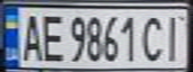1: (118, 12, 142, 63)
6: (103, 12, 121, 63)
8: (84, 12, 106, 63)
9: (63, 11, 87, 63)
A: (18, 10, 45, 63)
C: (139, 11, 169, 63)
E: (39, 11, 66, 63)
I: (160, 11, 190, 62)
